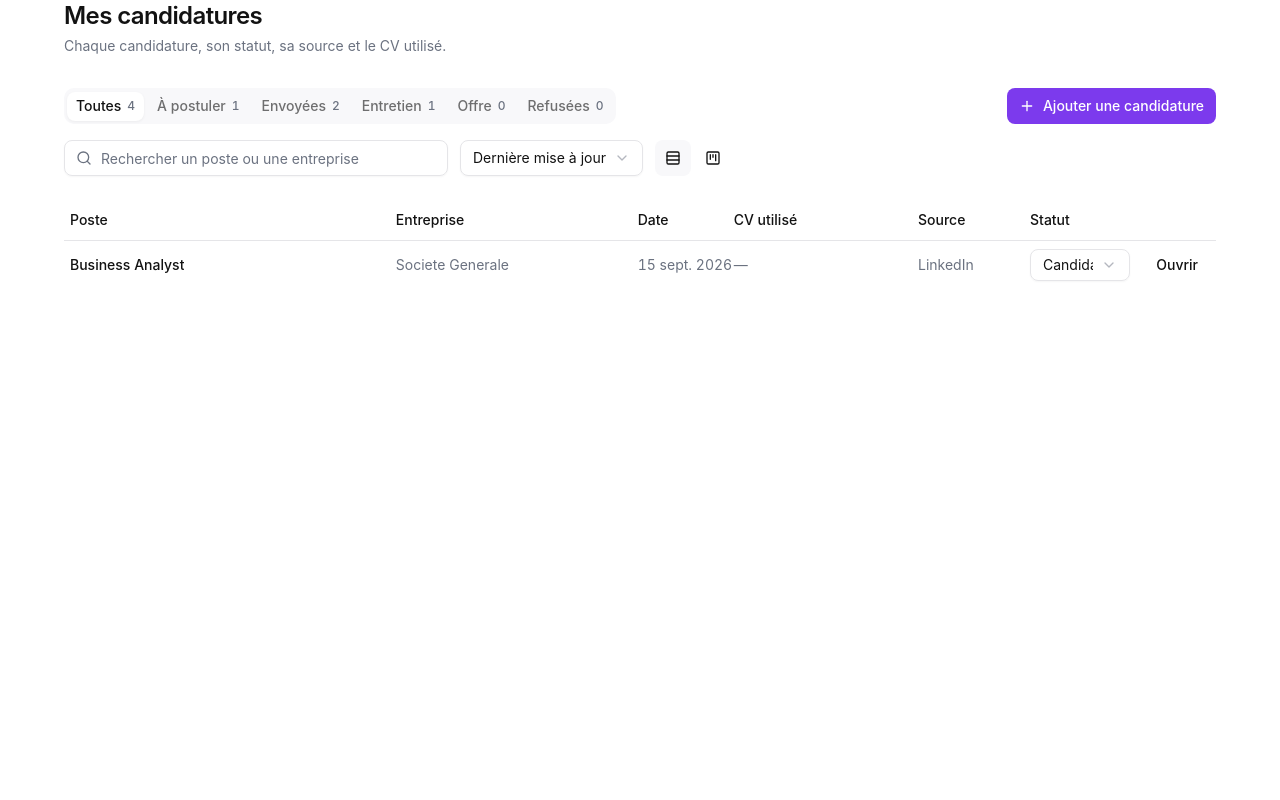
Scenario: ApplicationsPage › ecrit la candidature ouverte dans l_URL depuis la table
Step 1. Click the button named "Ouvrir Business Analyst" → [1177, 264], box [1144,248,1210,280]
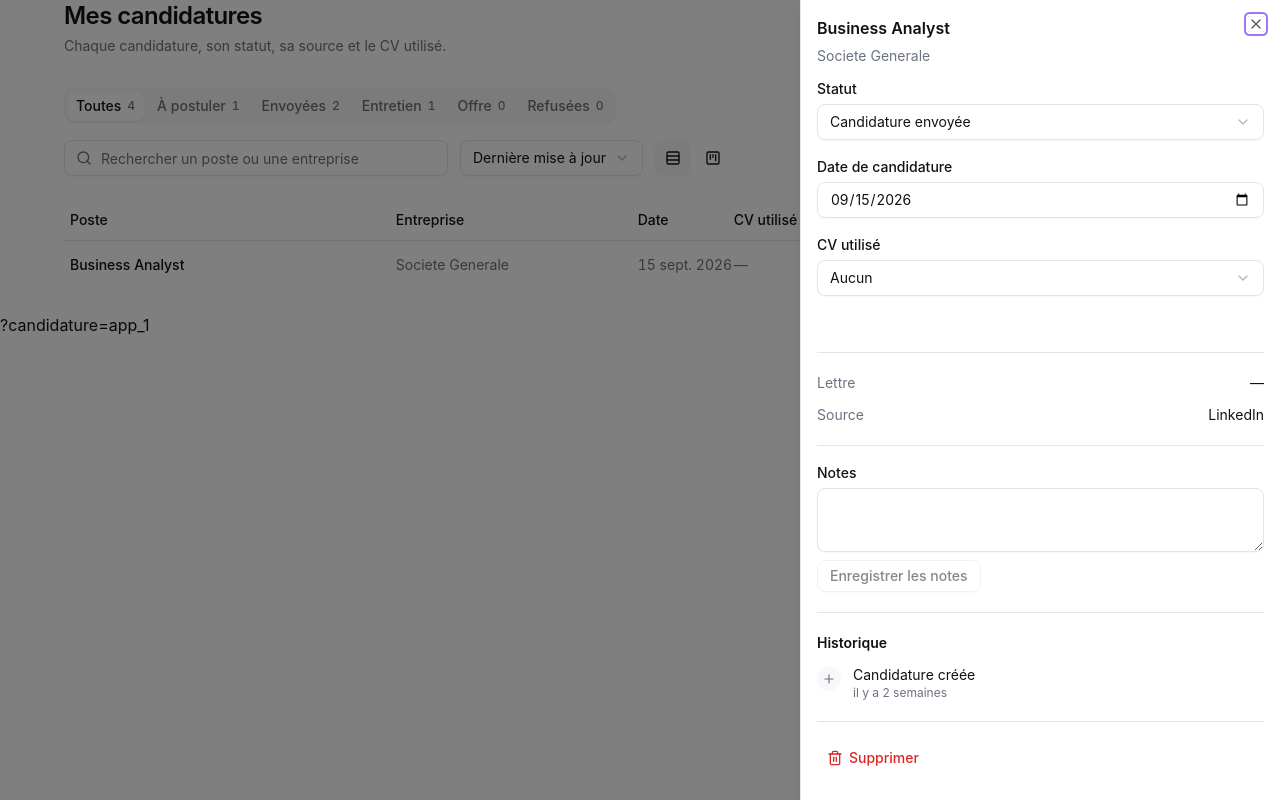
Result: the text with test id "search" reads "?candidature=app_1" at [0,314,149,334]
